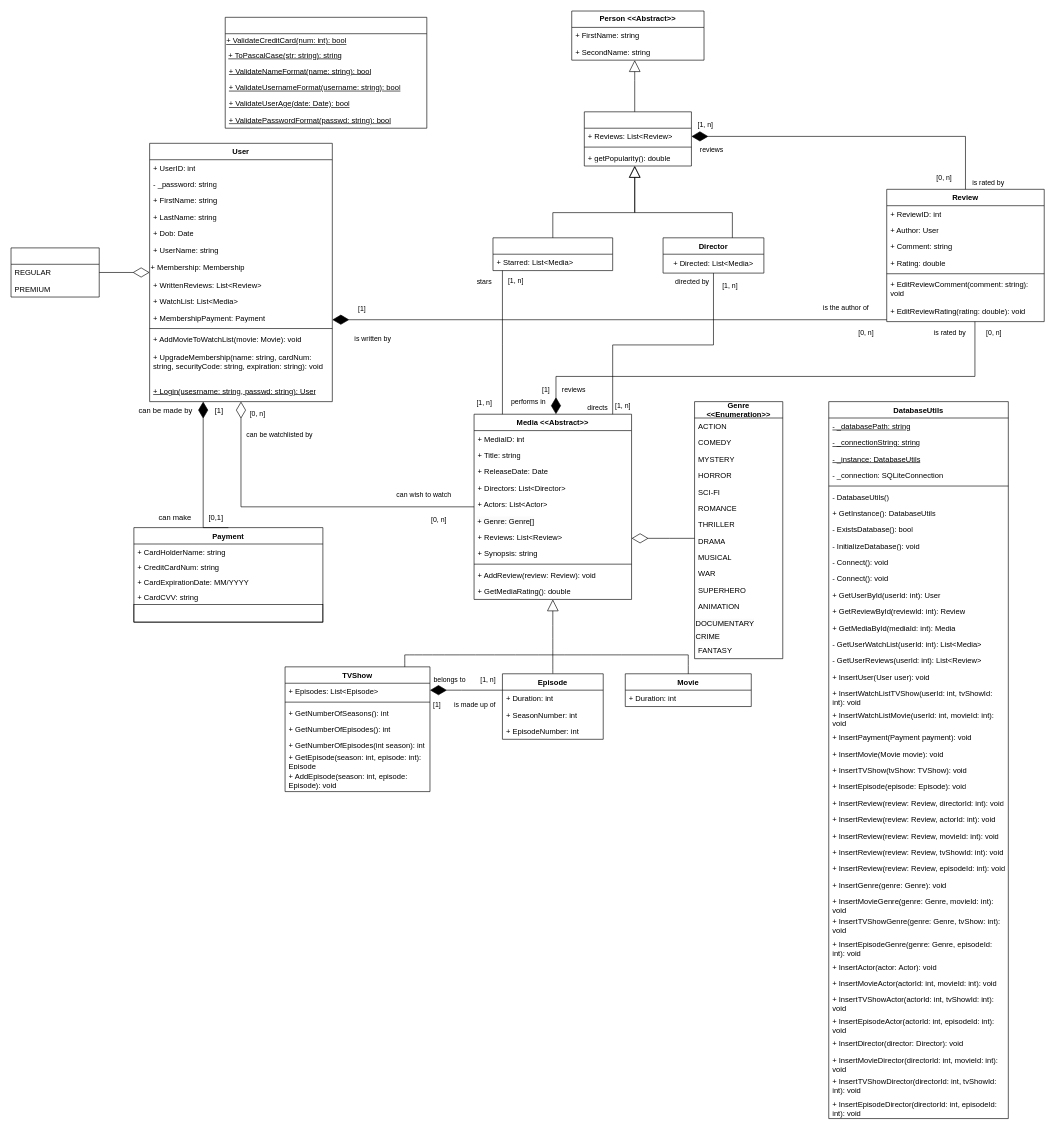
Some shapes in this 1055 by 1131 pixel diagram are drawn without their labels. Each missing label, with the box of its shape:
+ validateCard(string CreditCardNumber): bool: (133, 604, 323, 622)
Actor: (492, 237, 613, 271)
CrewMember <<Abstract>>: (584, 111, 691, 166)
Membership <<Enumeration>>: (10, 247, 99, 297)
Util: (225, 17, 427, 128)
